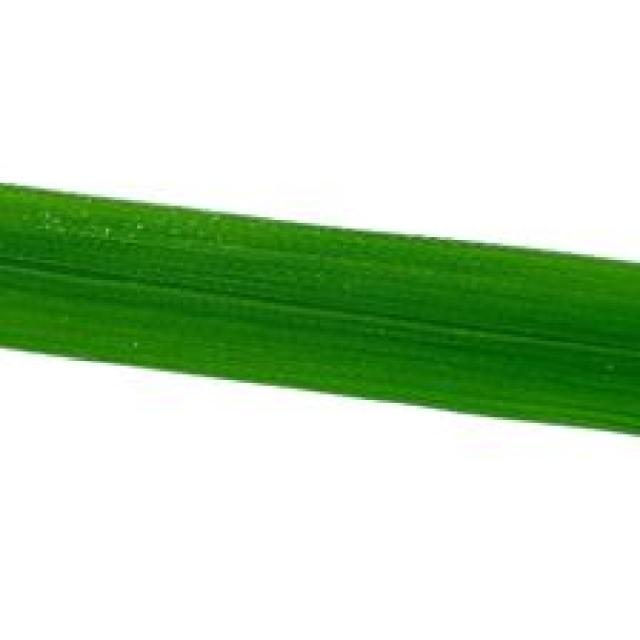Rice___Healthy_Rice_Plant: (0, 181, 637, 437)
